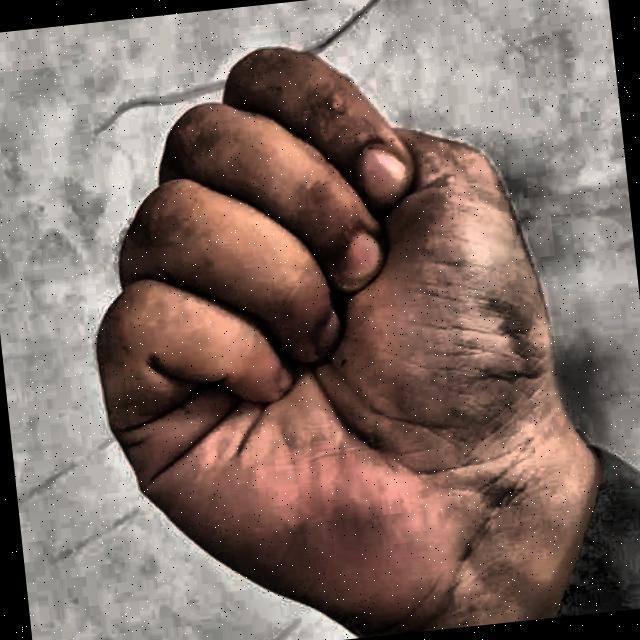To: (32, 2, 601, 640)
